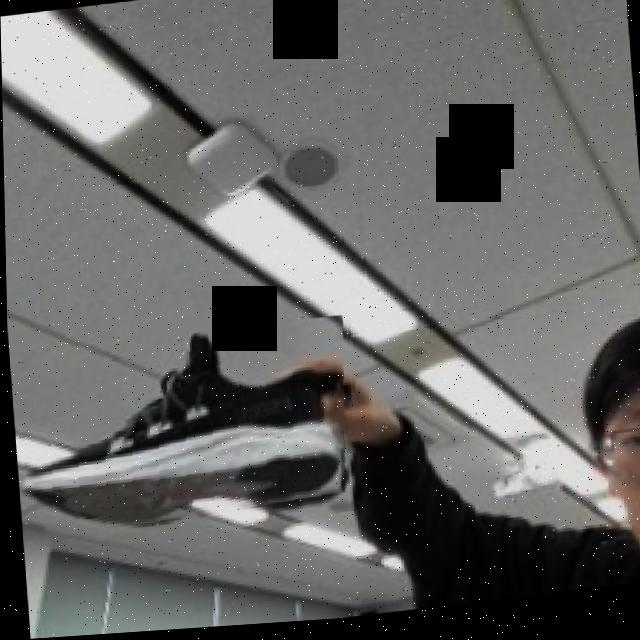shoe: (7, 319, 355, 543)
